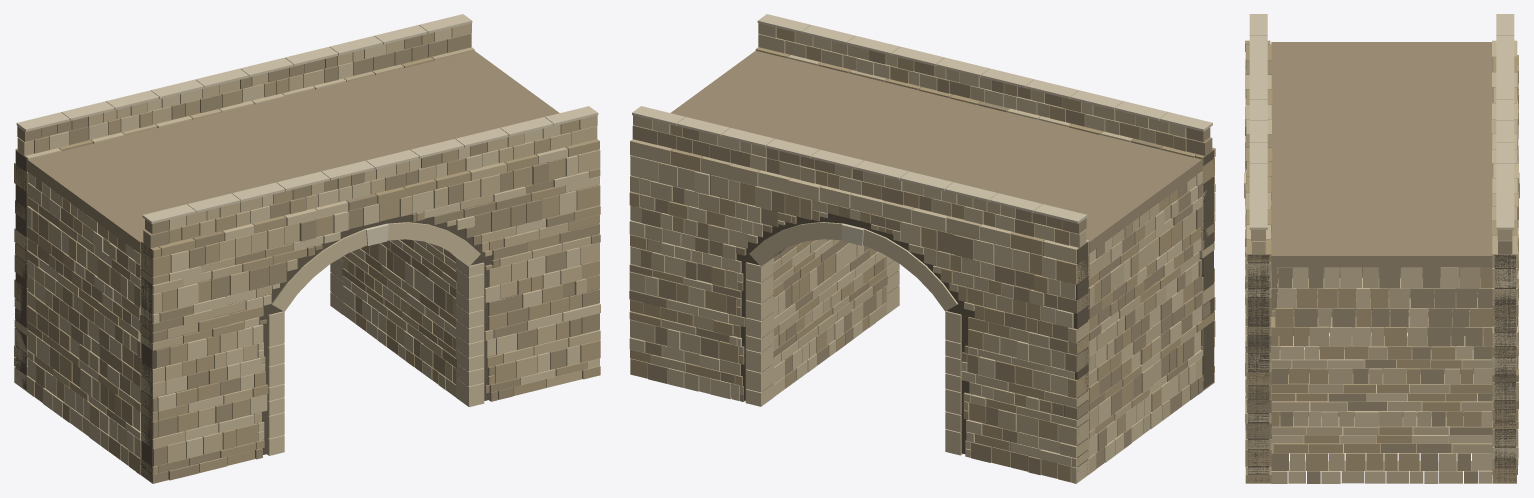
Rendered from nus-corbata.glb.
The picture shows the model from 3 angles, left to right: view 1: azimuth 30°, elevation 25°; view 2: azimuth 150°, elevation 25°; view 3: azimuth 270°, elevation 25°; orthographic projection. The views are drawn at different scales.
Parts seen in each view (by area): view 1: nus-corbata; view 2: nus-corbata; view 3: nus-corbata.
Part boxes in pixels (x1,y1,x2,y2): nus-corbata: (14,14,600,483); nus-corbata: (629,14,1215,483); nus-corbata: (1244,14,1519,483).
Bounding box in the file's own units: 16.04 × 8.93 × 8.72.
